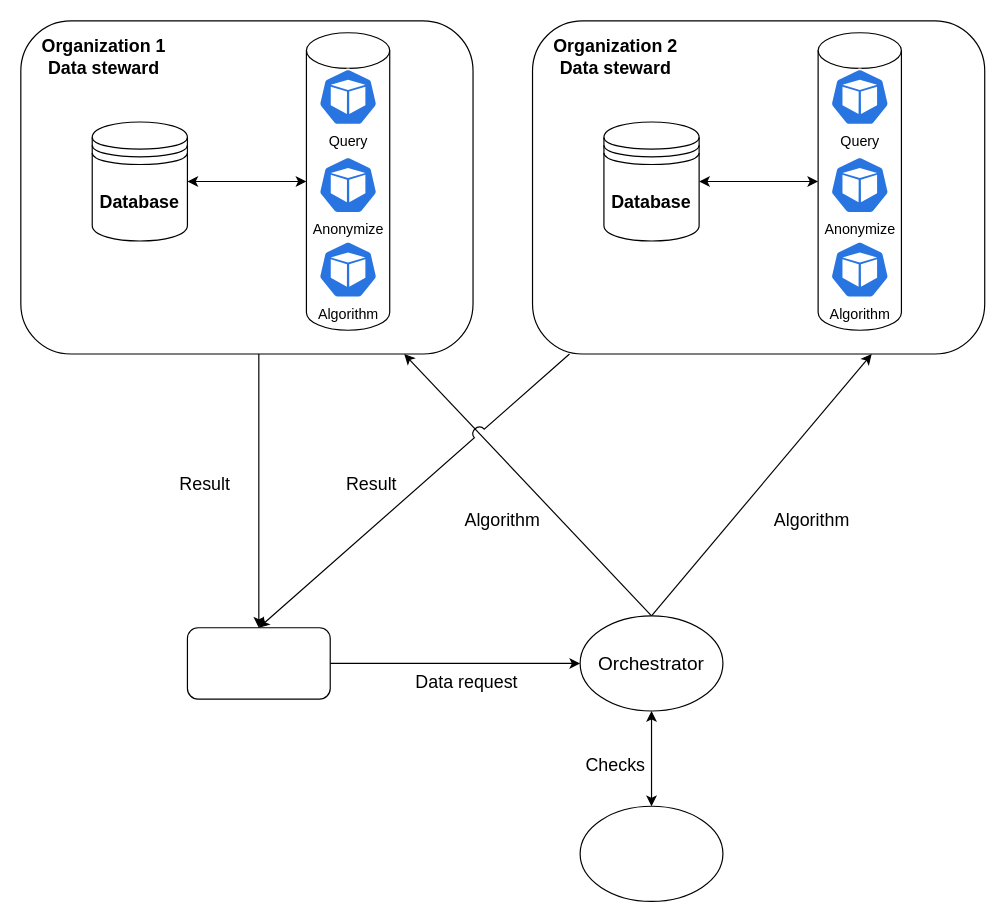
The diagram is 1006 pixels wide and 922 high, and some of its shapes have lost their labels. Here are the shapes that lost their labels. From the top down, the box of each, then its label:
(186, 627, 330, 699): Requestor
(579, 805, 723, 901): Reasoner
